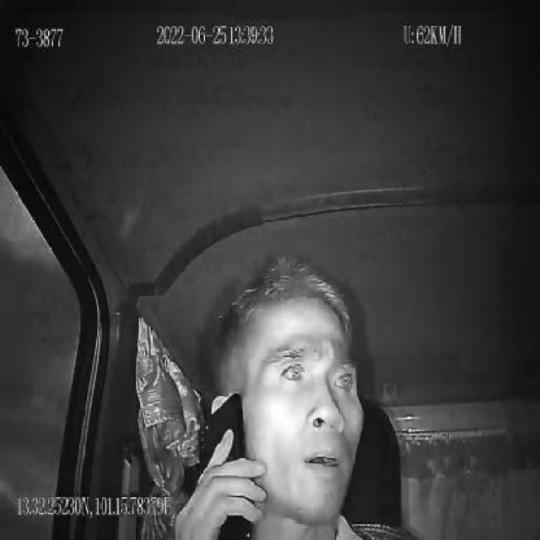phone: (194, 389, 252, 540)
